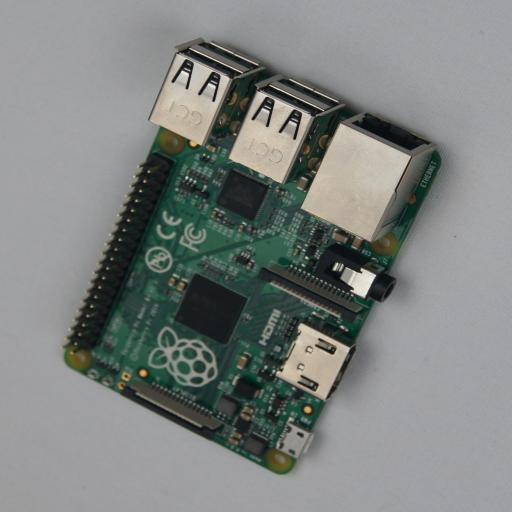Raspberry Pi 1 B-: (63, 38, 447, 474)
